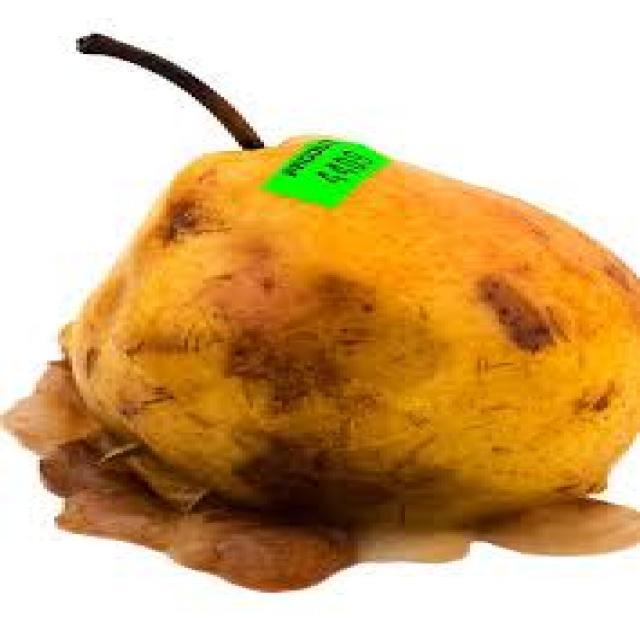Organik: (18, 28, 640, 591)
